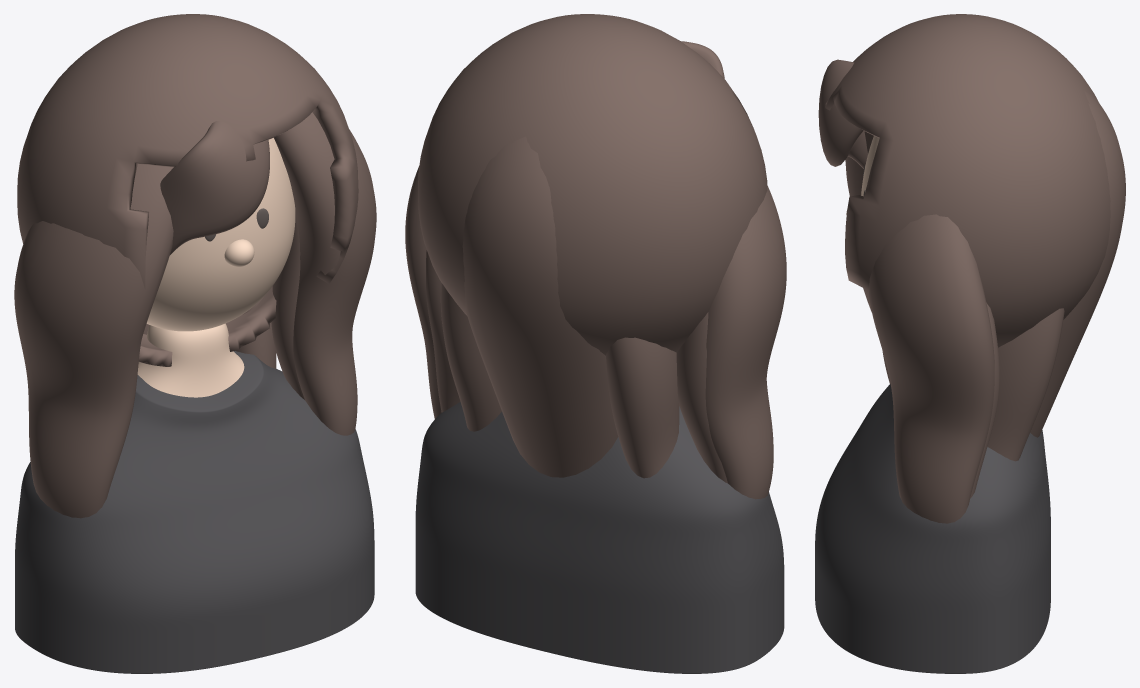
The model's file is character.glb.
3 views of the same model, side by side, from view 1: azimuth 30°, elevation 25°; view 2: azimuth 150°, elevation 25°; view 3: azimuth 270°, elevation 25° (orthographic). The views are drawn at different scales.
Visible parts, largest first — view 1: top, hair_scalp, hair_side_l_upper, hair_side_r_upper, head, hair_bang, body, hair_side_r_under, hair_back_nape_r, nose; view 2: hair_scalp, top, hair_back_top, hair_side_l_upper, hair_back_nape_l, hair_back_nape_r, hair_side_l_under, hair_side_r_upper, hair_side_r_under; view 3: hair_scalp, top, hair_side_r_upper, hair_back_nape_r, hair_back_top, hair_bang, hair_side_r_under, hair_side_l_upper.
Part boxes in pixels (x1,y1,x2,y2): top: (15,351,374,673); hair_scalp: (17,14,358,366); hair_side_l_upper: (14,163,173,518); hair_side_r_upper: (274,112,376,435); head: (146,138,295,331); hair_bang: (160,121,269,254); body: (137,323,244,397); hair_side_r_under: (271,212,304,399); hair_back_nape_r: (235,297,276,368); nose: (224,239,254,266); hair_scalp: (418,14,767,355); top: (415,402,784,673); hair_back_top: (462,136,618,477); hair_side_l_upper: (705,185,786,499); hair_back_nape_l: (606,337,679,478); hair_back_nape_r: (440,283,501,431); hair_side_l_under: (676,312,727,483); hair_side_r_upper: (405,166,441,419); hair_side_r_under: (426,250,460,412); hair_scalp: (825,14,1110,347); top: (815,384,1050,673); hair_side_r_upper: (869,214,994,523); hair_back_nape_r: (987,308,1064,461); hair_back_top: (1030,90,1125,437); hair_bang: (818,59,867,168); hair_side_r_under: (970,302,999,497); hair_side_l_upper: (846,131,890,383).
Bounding box in the file's own units: 2.76 × 4.4 × 2.19.
